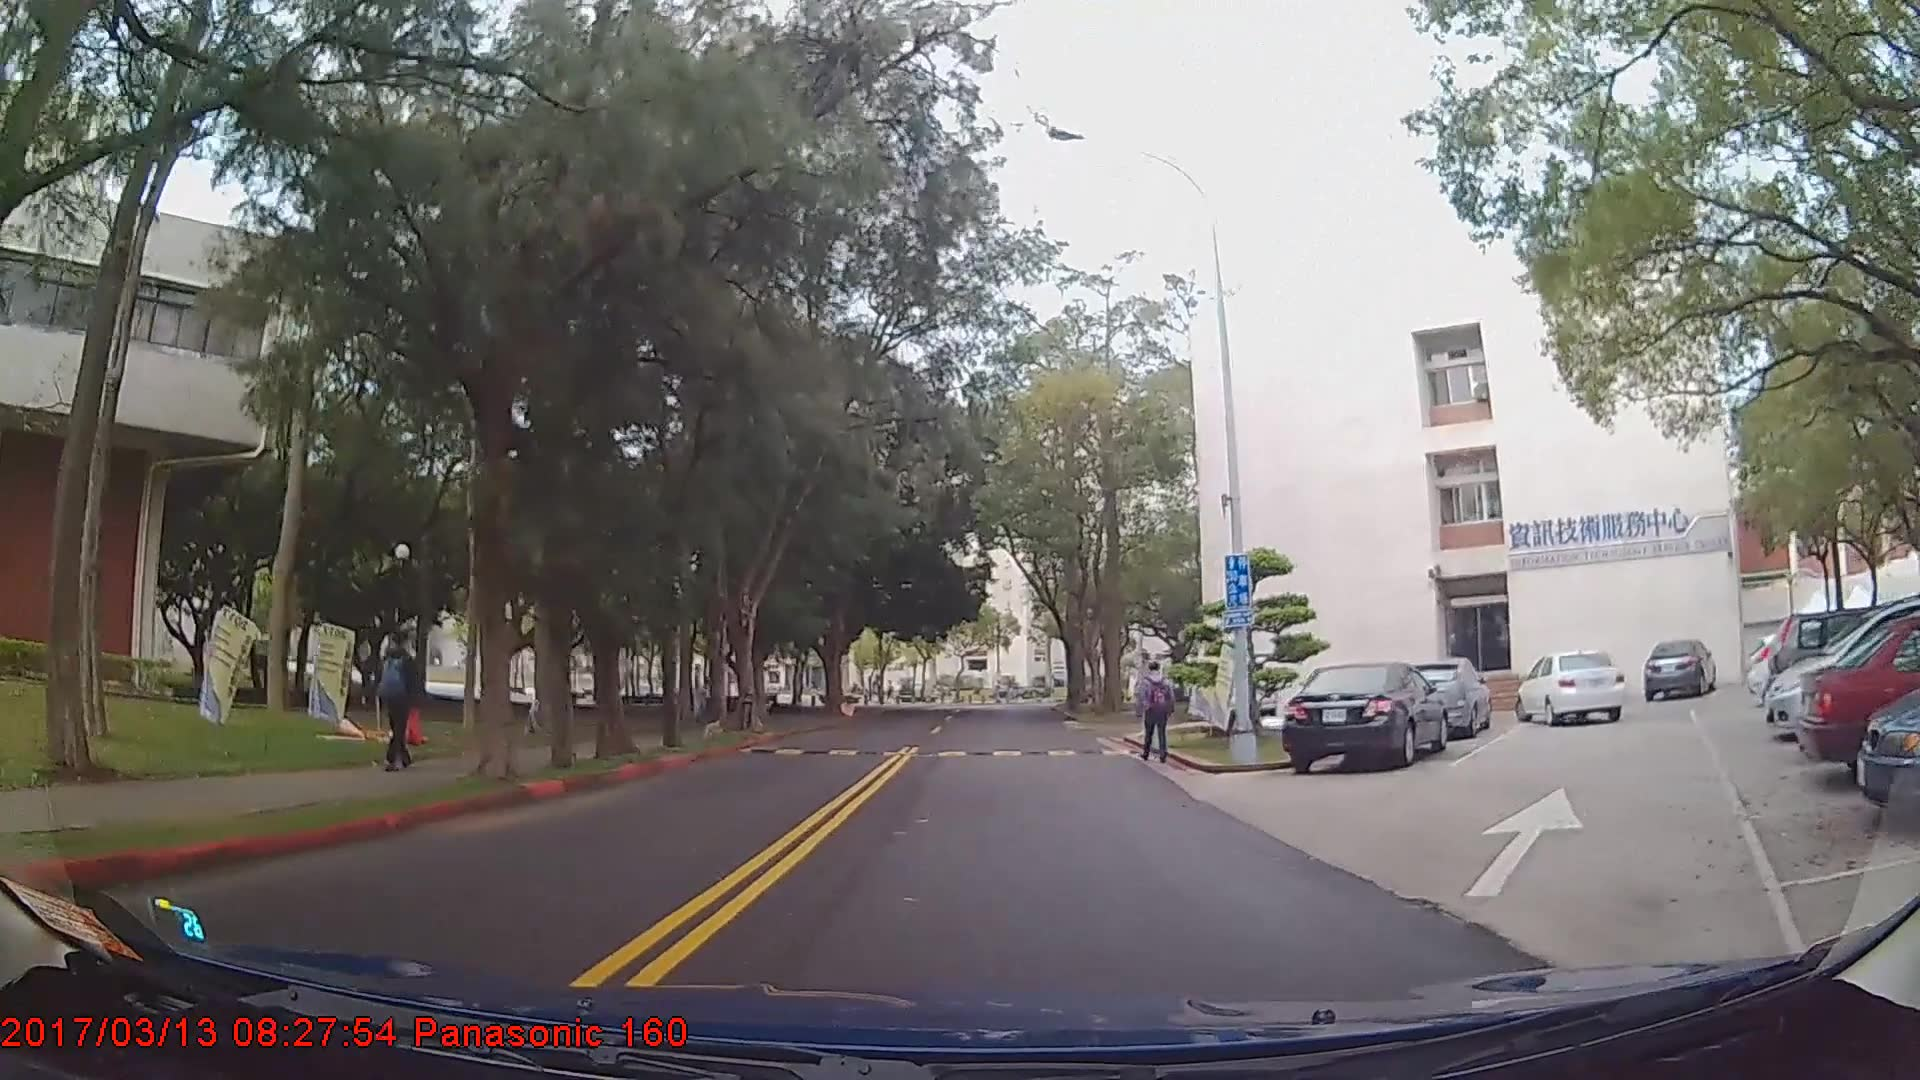pedestrian: (376, 635, 431, 782), (1142, 661, 1181, 772)
vehicle: (1765, 593, 1920, 740), (1280, 662, 1446, 775), (1769, 608, 1920, 725), (1516, 650, 1625, 727), (1394, 655, 1494, 737), (1643, 635, 1717, 700)
